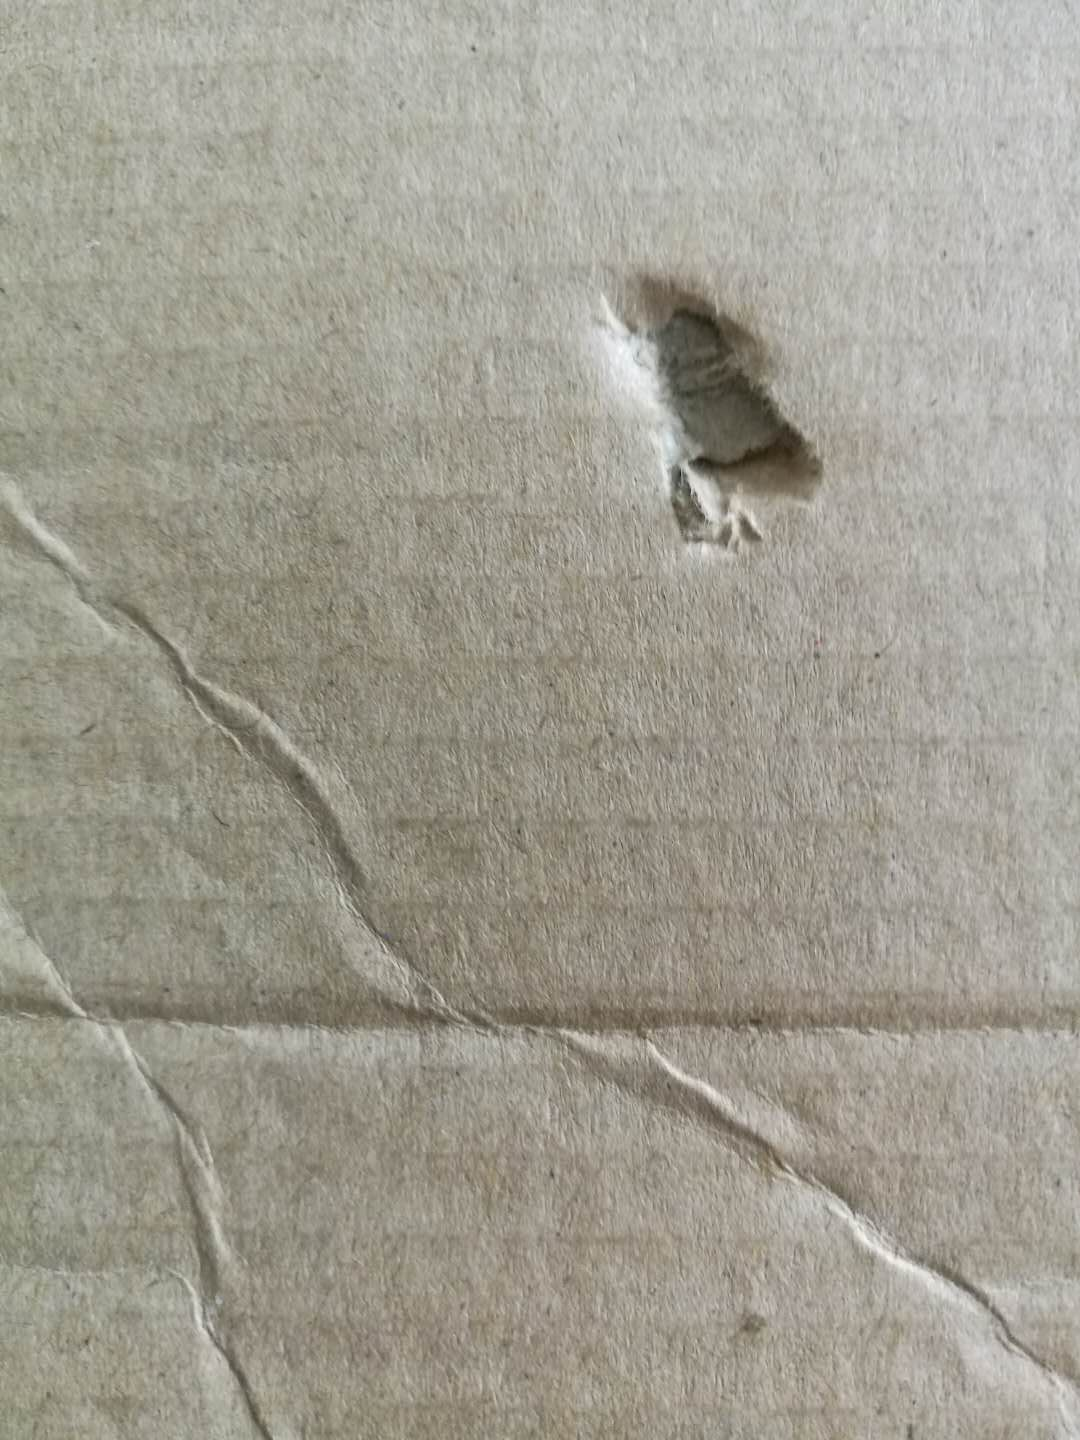defect: (3, 439, 503, 1016), (528, 999, 1080, 1412), (3, 912, 1080, 1111), (82, 1025, 338, 1440), (571, 238, 869, 581)
